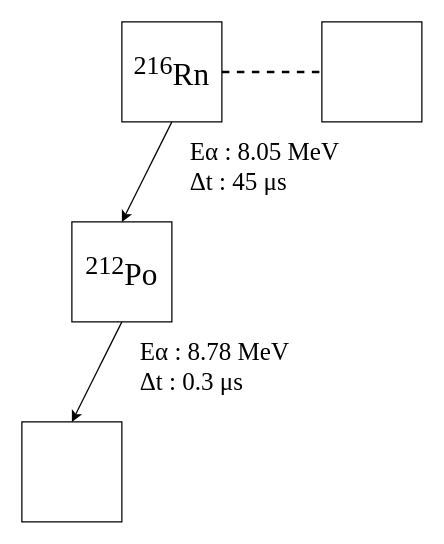
Image size: 444x544. Some labels were removed from this diagram. The shapes that lost their labels are listed below. From the top down, each one's centre as x and y in pixels, then its label:
At point (371, 71): "ER".
At point (71, 471): "208 Pb".
